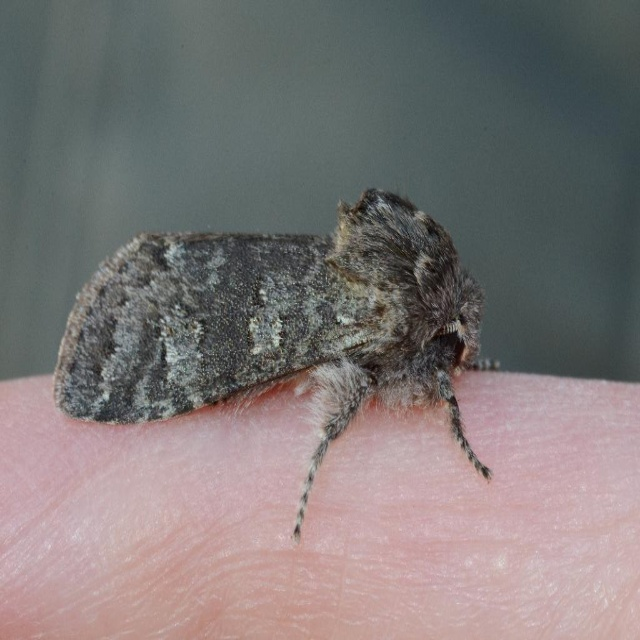Moths and butterflies: (53, 190, 504, 547)
